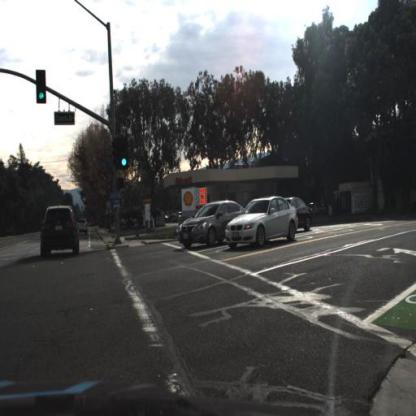car: (222, 195, 300, 250), (177, 199, 230, 248), (40, 204, 81, 258), (277, 194, 313, 234)
trafficLight-Green: (36, 67, 48, 104), (118, 142, 128, 172)
